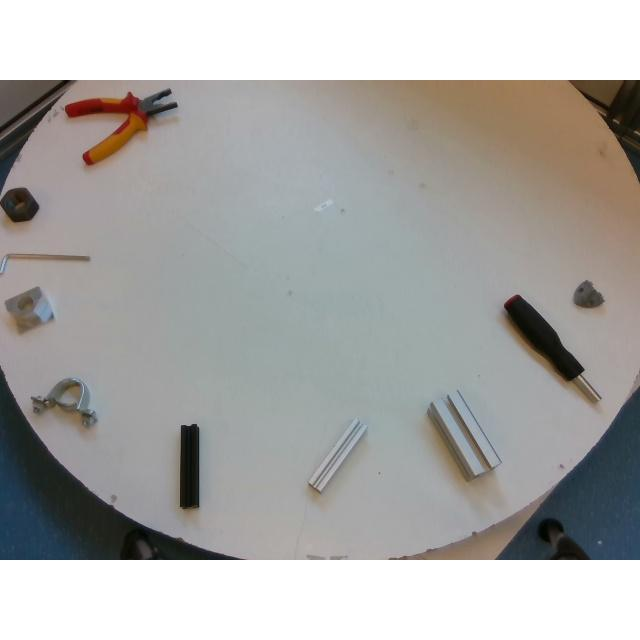F20_20_B: (178, 424, 198, 508)
F20_20_G: (306, 418, 366, 494)
Housing: (32, 378, 96, 427)
M30: (0, 187, 38, 221)
S40_40_G: (428, 389, 500, 478)
